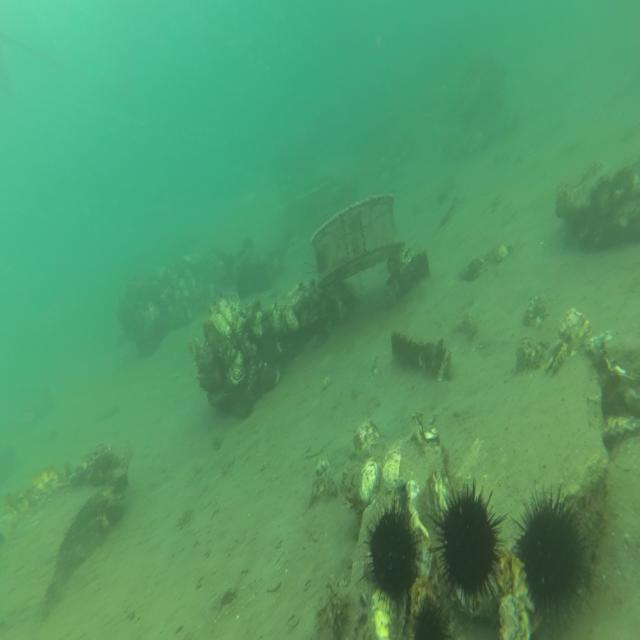echinus: (510, 480, 600, 631), (427, 475, 509, 615), (357, 491, 422, 615), (409, 591, 452, 640)
